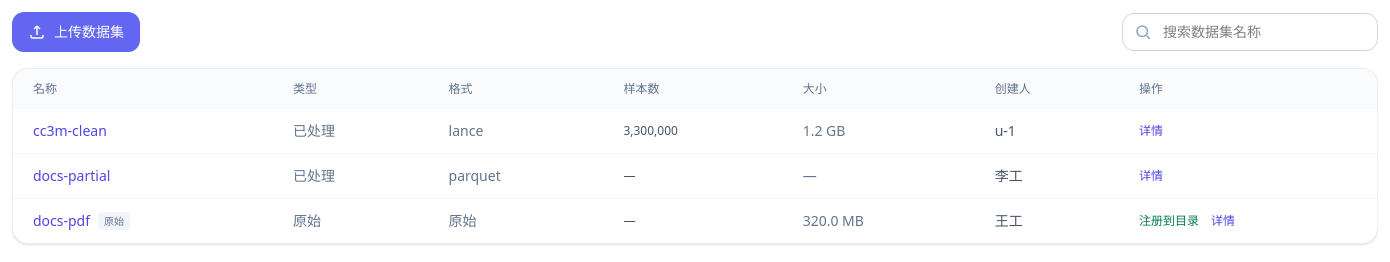
Scenario: 搜索框按名称过滤
The width and height of the screenshot is (1390, 262).
Check: the text "cc3m-clean" is shown, box [33,121,107,140]
In the field labelled "搜索数据集名称": [1250, 32] box [1122,13,1378,51], type "cc3m"
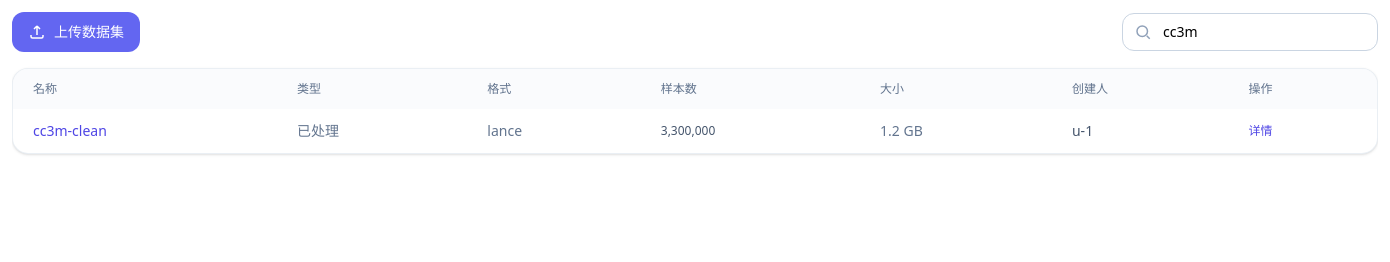
Check: the text "cc3m-clean" is shown, box [33,121,107,140]
Check: the text "docs-partial" is gone
Check: the text "docs-pdf" is gone
